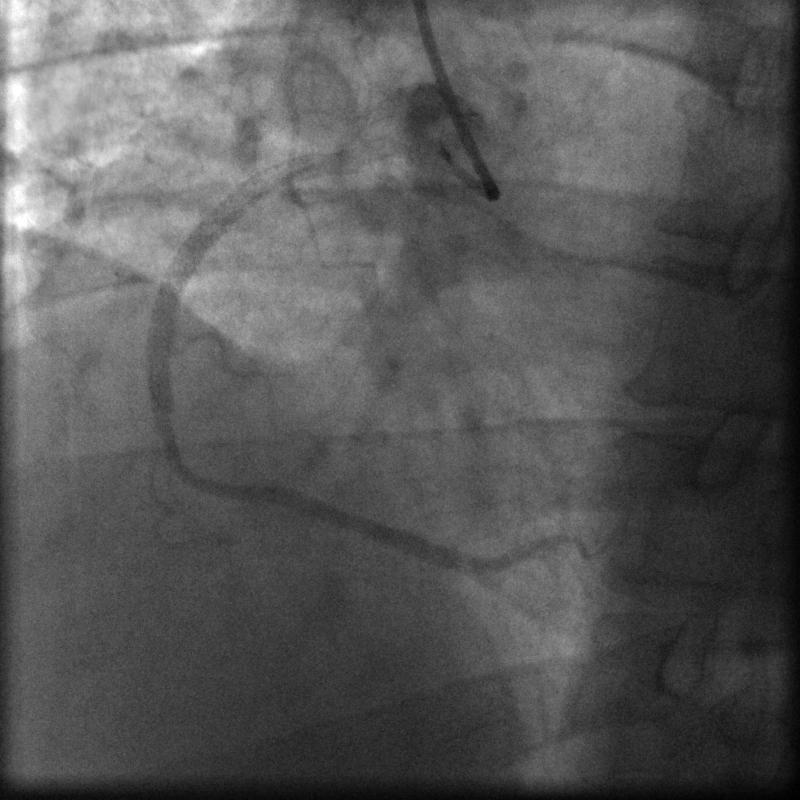Stenosis: (146, 400, 184, 482)
